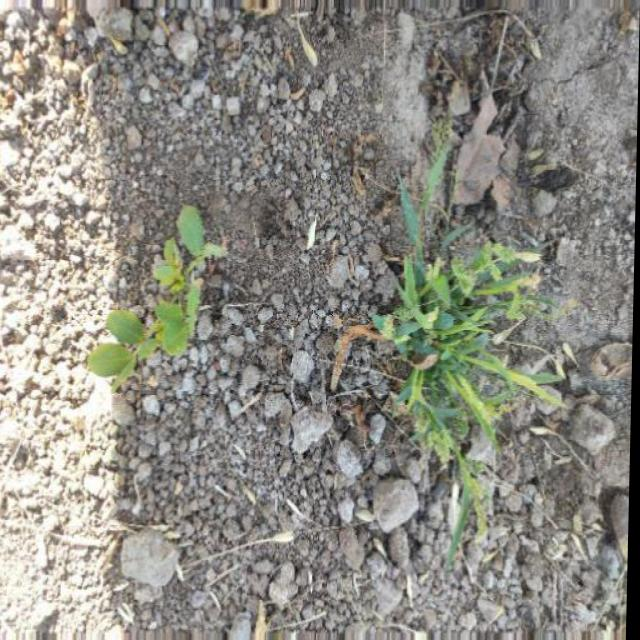weed: (350, 203, 564, 512), (39, 195, 285, 400)
